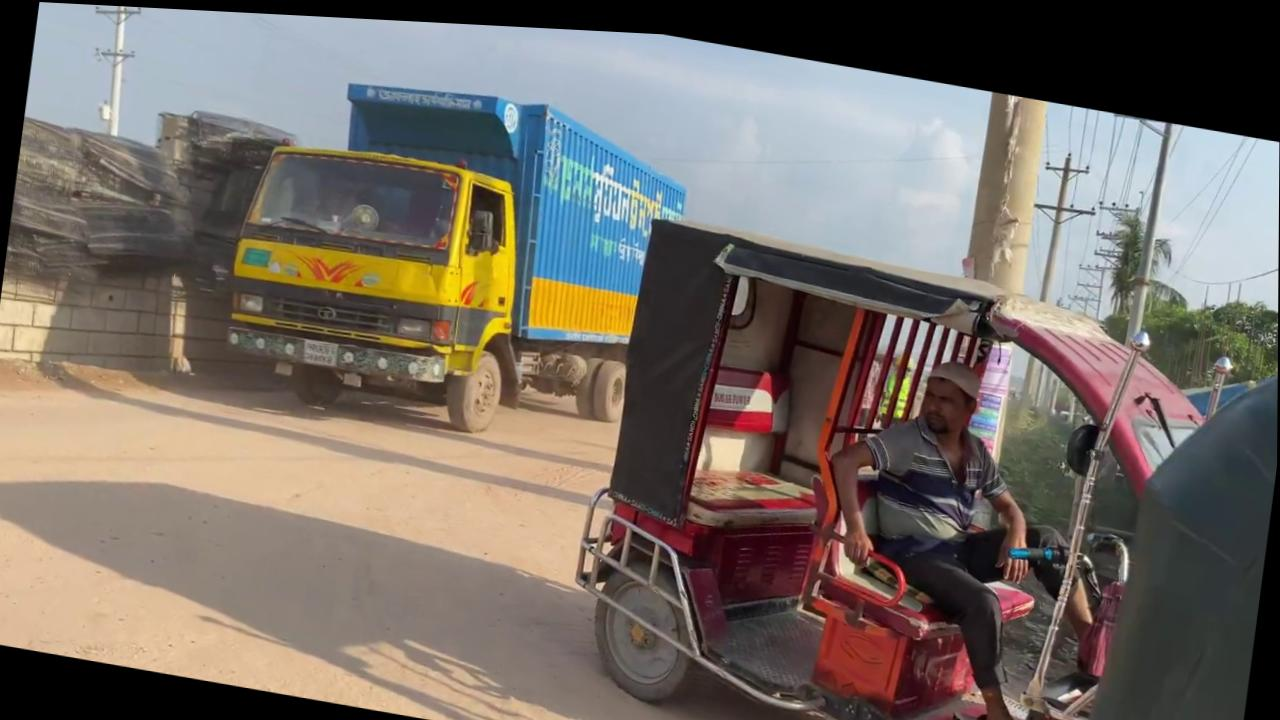Obstacle: (1034, 314, 1278, 720)
Traffic-sign: (1087, 187, 1177, 314)
Tree: (556, 197, 1233, 720), (215, 47, 697, 461)
